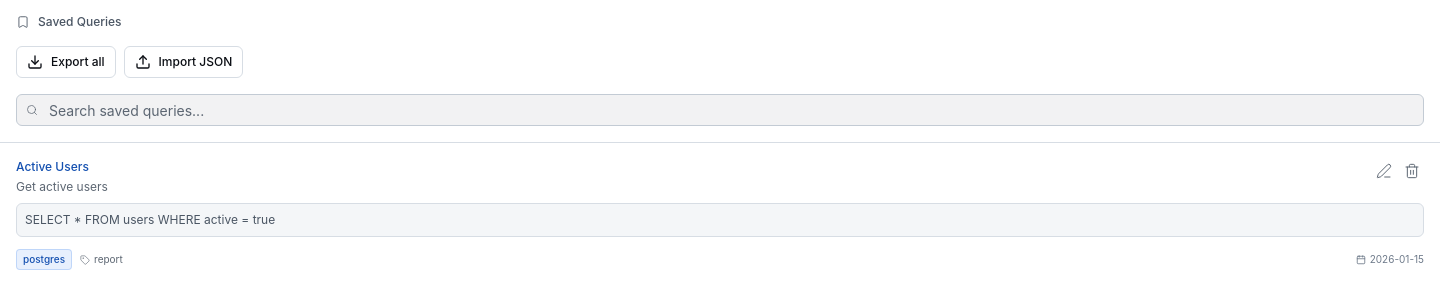
Test: SavedQueries › delete button removes query after confirm
The width and height of the screenshot is (1440, 287).
Check: the button "Active Users" is shown, box left=16, top=159, right=89, bottom=175
Click the button named "Delete Active Users".
click(1412, 171)  # box left=1400, top=159, right=1424, bottom=183
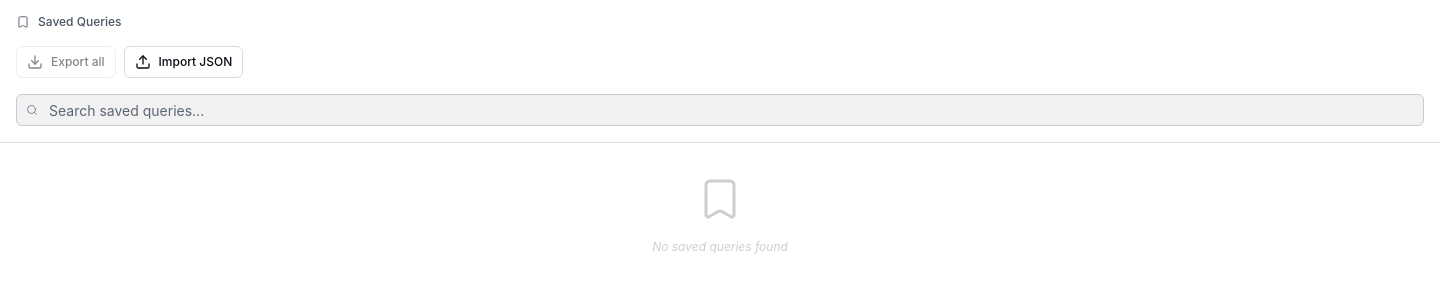
Check: the button "Active Users" is gone
Check: the text "No saved queries found" is shown, box left=652, top=239, right=788, bottom=255
